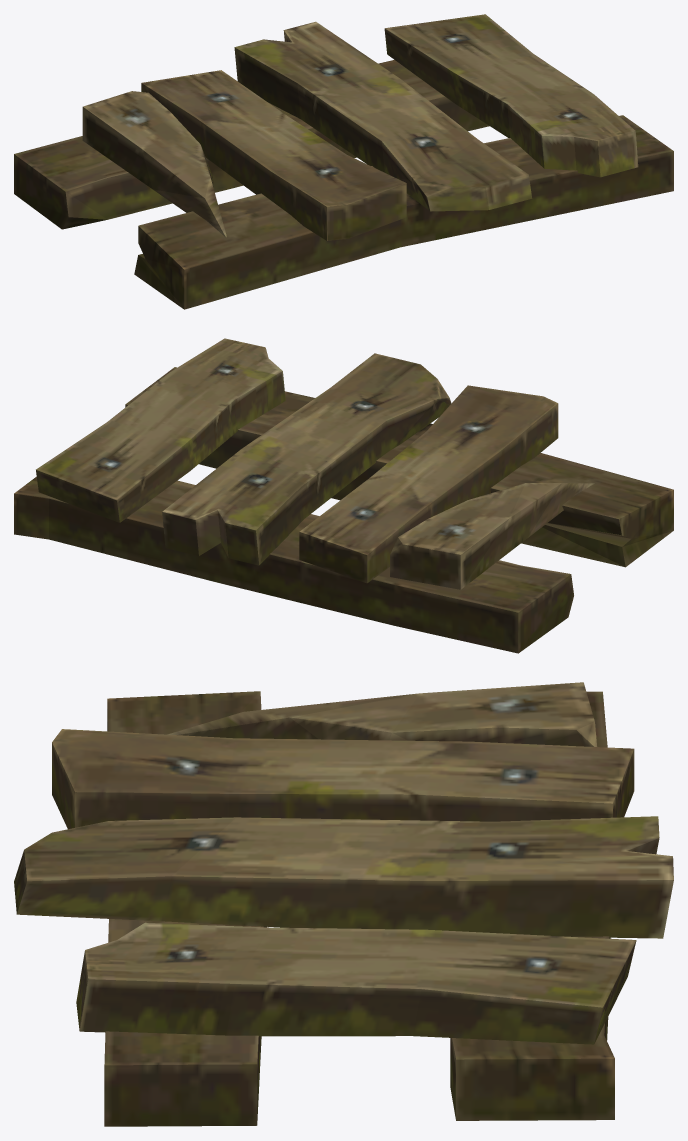
Rendered from dock_05.fbx.
3 views of the same model, one above another, from view 1: azimuth 30°, elevation 25°; view 2: azimuth 150°, elevation 25°; view 3: azimuth 270°, elevation 25° (orthographic). The views are drawn at different scales.
Parts seen in each view (by area): view 1: obj1.141; view 2: obj1.141; view 3: obj1.141.
Part boxes in pixels (x1=…): obj1.141: x1=14, y1=14, x2=673, y2=309; obj1.141: x1=14, y1=338, x2=673, y2=653; obj1.141: x1=14, y1=682, x2=673, y2=1126.
Size of the model in its own units: 4.08 by 0.6462 by 3.05.
